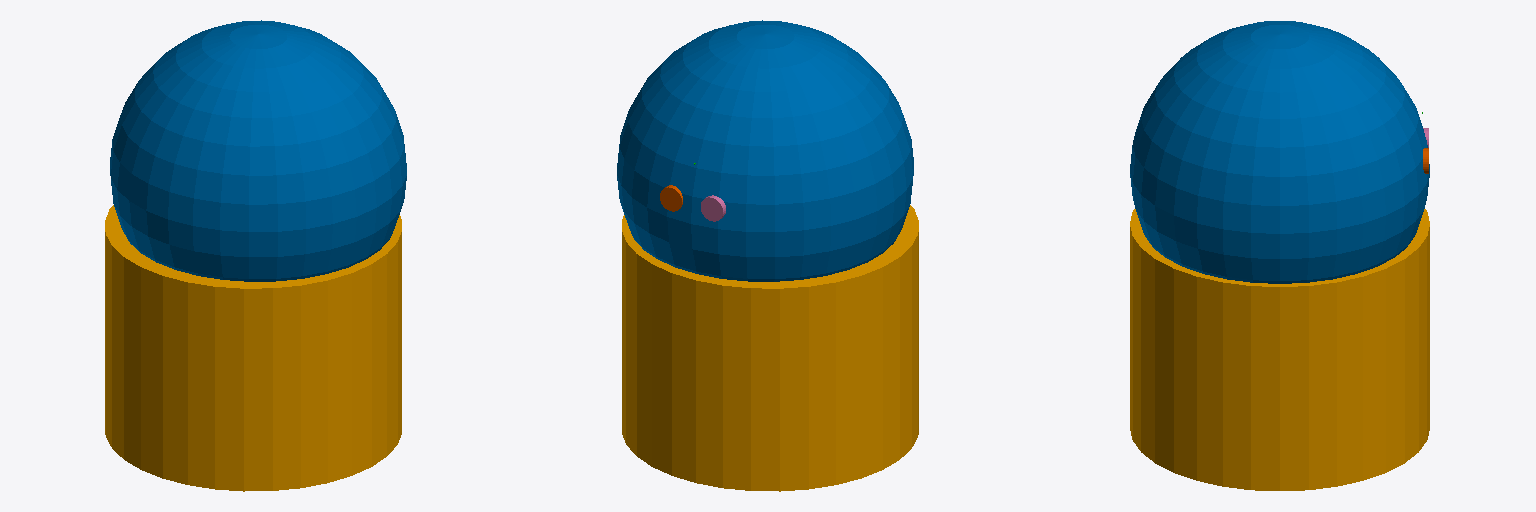
robot.urdf — mira:
<robot name="mira">

    <material name="blue">
        <color rgba="0 0 0.8 1"/>
    </material>
    <material name="red">
        <color rgba="0.8 0 0 1"/>
    </material>
    <material name="green">
        <color rgba="0 0.8 0 1"/>
    </material>

    <gazebo>
        <plugin name="gazebo_ros_control" filename="libgazebo_ros_control.so">
        </plugin>
    </gazebo>

	<!-- * * * Link Definitions * * * -->
    <link name="base_link">
 	    <inertial>
            <origin xyz="0 0 0" rpy="0 0 0"/>
            <mass value="0.18" />
            <inertia ixx="0.0002835" ixy="0.0" ixz="0.0" iyy="0.0002835" iyz="0.0" izz="0.000324"/>
        </inertial>
        <collision>
            <origin xyz="0 0 0" rpy="0 0 0"/>
            <geometry>
                <cylinder radius="0.06" length="0.09"/>
            </geometry>
        </collision>
        <visual>
            <origin rpy="0.0 0 0" xyz="0 0 0"/>
            <geometry>
                <cylinder radius="0.06" length="0.09"/>
            </geometry>
        </visual>
	</link>

    <gazebo reference="roll_M1_link">
        <kp>1000.0</kp>
        <kd>10.0</kd>
        <mu1>10.0</mu1>
        <mu2>10.0</mu2>
    </gazebo>

    <link name="roll_M1_link">
        <!-- Inertial for gazebo to take it into account, Put 1gr weight -->
        <inertial>
            <origin xyz="0 0 0" rpy="0 0 0"/>
            <mass value="0.001" />
            <inertia ixx="2.70833333333e-08" ixy="0.0" ixz="0.0" iyy="2.70833333333e-08" iyz="0.0" izz="5e-08"/>
        </inertial>
        <visual>
            <origin rpy="0 0 0" xyz="0 0 0"/>
            <geometry>
                <cylinder length="0.005" radius="0.01"/>
            </geometry>
            <material name="red"/>
        </visual>
    </link>
    <!-- This is for color and physical properties in Gazebo, color won't work with the material tag in gazebo
    only for URDF coloring -->
    <gazebo reference="roll_M1_link">
        <kp>1000.0</kp>
        <kd>10.0</kd>
        <mu1>10.0</mu1>
        <mu2>10.0</mu2>
        <material>Gazebo/Red</material>
    </gazebo>

    <joint name="roll_joint" type="revolute">
    	<parent link="base_link"/>
    	<child link="roll_M1_link"/>
        <origin xyz="0.0023 0 -0.0005" rpy="0 0 0"/>
        <limit lower="-0.2" upper="0.2" effort="0.1" velocity="0.005"/>
        <axis xyz="1 0 0"/>
	</joint>

    <transmission name="tran1">
        <type>transmission_interface/SimpleTransmission</type>
        <joint name="roll_joint">
            <hardwareInterface>hardware_interface/EffortJointInterface</hardwareInterface>
        </joint>
        <actuator name="motor1">
            <hardwareInterface>hardware_interface/EffortJointInterface</hardwareInterface>
            <mechanicalReduction>1</mechanicalReduction>
        </actuator>
    </transmission>


    <link name="pitch_M2_link">
        <!-- Inertial for gazebo to take it into account, Put 1gr weight -->
        <inertial>
            <origin xyz="0 0 0" rpy="0 0 0"/>
            <mass value="0.001" />
            <inertia ixx="2.70833333333e-08" ixy="0.0" ixz="0.0" iyy="2.70833333333e-08" iyz="0.0" izz="5e-08"/>
        </inertial>
        <visual>
            <origin rpy="0 0 0" xyz="0 0 0"/>
            <geometry>
                <cylinder length="0.005" radius="0.01"/>
            </geometry>
            <material name="green"/>
        </visual>
    </link>

    <!-- This is for color and physical properties in Gazebo, color won't work with the material tag in gazebo
    only for URDF coloring -->
    <gazebo reference="pitch_M2_link">
        <kp>1000.0</kp>
        <kd>10.0</kd>
        <mu1>10.0</mu1>
        <mu2>10.0</mu2>
        <material>Gazebo/Green</material>
    </gazebo>

    <joint name="pitch_joint" type="revolute">
    	<parent link="roll_M1_link"/>
    	<child link="pitch_M2_link"/>
    	<origin xyz="0 0 0" rpy="0 -1.5708 0"/>
        <limit lower="0" upper="0.44" effort="0.1" velocity="0.005"/>
        <axis xyz="0 1 0"/>
	</joint>

    <transmission name="tran2">
        <type>transmission_interface/SimpleTransmission</type>
        <joint name="pitch_joint">
            <hardwareInterface>hardware_interface/EffortJointInterface</hardwareInterface>
        </joint>
        <actuator name="motor2">
            <hardwareInterface>hardware_interface/EffortJointInterface</hardwareInterface>
            <mechanicalReduction>1</mechanicalReduction>
        </actuator>
    </transmission>

    <link name="yaw_M3_link">
        <!-- Inertial for gazebo to take it into account, Put 1gr weight -->
        <inertial>
            <origin xyz="0 0 0" rpy="0 0 0"/>
            <mass value="0.001" />
            <inertia ixx="2.70833333333e-08" ixy="0.0" ixz="0.0" iyy="2.70833333333e-08" iyz="0.0" izz="5e-08"/>
        </inertial>
        <visual>
            <origin rpy="0 0 0" xyz="0 0 0"/>
            <geometry>
                <cylinder length="0.005" radius="0.01"/>
            </geometry>
            <material name="blue"/>
        </visual>
    </link>

    <!-- This is for color and physical properties in Gazebo, color won't work with the material tag in gazebo
    only for URDF coloring -->
    <gazebo reference="yaw_M3_link">
        <kp>1000.0</kp>
        <kd>10.0</kd>
        <mu1>10.0</mu1>
        <mu2>10.0</mu2>
        <material>Gazebo/Blue</material>
    </gazebo>


    <joint name="yaw_joint" type="continuous">
    	<parent link="pitch_M2_link"/>
    	<child link="yaw_M3_link"/>
        <origin xyz="0.01 0 0" rpy="0 1.5708 0"/>
        <limit effort="0.1" velocity="0.01"/>
        <axis xyz="0 0 1"/>
	</joint>

    <transmission name="tran3">
        <type>transmission_interface/SimpleTransmission</type>
        <joint name="yaw_joint">
            <hardwareInterface>hardware_interface/EffortJointInterface</hardwareInterface>
        </joint>
        <actuator name="motor3">
            <hardwareInterface>hardware_interface/EffortJointInterface</hardwareInterface>
            <mechanicalReduction>1</mechanicalReduction>
        </actuator>
    </transmission>

    <link name="head_link">
 	    <inertial>
            <origin xyz="0 0 0" rpy="0 0 0"/>
            <mass value="0.02" />
            <inertia ixx="2.61666666667e-05" ixy="0.0" ixz="0.0" iyy="2.61666666667e-05" iyz="0.0" izz="3.6e-05"/>
        </inertial>
        <collision>
            <origin xyz="0 0 0.015" rpy="0 0 0"/>
            <geometry>
                <!--
                <cylinder radius="0.06" length="0.035"/>
                -->
                <sphere radius="0.06"/>
            </geometry>
        </collision>
		<visual>
            <origin rpy="0.0 0 0" xyz="0 0 0"/>
            <geometry>
                <sphere radius="0.06"/>
            </geometry>
        </visual>
	</link>


    <joint name="base_head_joint" type="fixed">
    	<parent link="yaw_M3_link"/>
    	<child link="head_link"/>
    	<origin xyz="0 0 0.06" rpy="0 0 0"/>
	</joint>

    <link name="left_eye_link">
        <!-- Inertial for gazebo to take it into account, Put 1gr weight -->
        <inertial>
            <origin xyz="0 0 0" rpy="0 0 0"/>
            <mass value="0.001" />
            <inertia ixx="9.1875e-09" ixy="0.0" ixz="0.0" iyy="9.1875e-09" iyz="0.0" izz="1.378125e-08"/>
        </inertial>
		<visual>
            <origin rpy="0.0 0 0" xyz="0 0 0"/>
            <geometry>
                <!--
                <cylinder radius="0.00525" length="0.00525"/>
                -->
                <cylinder radius="0.00525" length="0.00525"/>
            </geometry>
        </visual>
	</link>

    <link name="right_eye_link">
        <!-- Inertial for gazebo to take it into account, Put 1gr weight -->
        <inertial>
            <origin xyz="0 0 0" rpy="0 0 0"/>
            <mass value="0.001" />
            <inertia ixx="9.1875e-09" ixy="0.0" ixz="0.0" iyy="9.1875e-09" iyz="0.0" izz="1.378125e-08"/>
        </inertial>
		<visual>
            <origin rpy="0.0 0 0" xyz="0 0 0"/>
            <geometry>
                <!--
                <cylinder radius="0.00525" length="0.00525"/>
                -->
                <cylinder radius="0.00525" length="0.00525"/>
            </geometry>
        </visual>
	</link>

    <joint name="head_lefteye_joint" type="fixed">
        <parent link="head_link"/>
        <child link="left_eye_link"/>
        <origin xyz="0.0095 0.057 0.0085" rpy="-1.5708 0 0"/>
    </joint>

    <joint name="head_righteye_joint" type="fixed">
        <parent link="head_link"/>
        <child link="right_eye_link"/>
        <origin xyz="-0.0095 0.057 0.0085" rpy="-1.5708 0 0"/>
    </joint>

    <link name="camera_link">
        <!-- Inertial for gazebo to take it into account, Put 1gr weight -->
        <inertial>
            <origin xyz="0 0 0" rpy="0 0 0"/>
            <mass value="0.001" />
            <inertia ixx="9.1875e-09" ixy="0.0" ixz="0.0" iyy="9.1875e-09" iyz="0.0" izz="1.378125e-08"/>
        </inertial>
		<visual>
            <origin rpy="0.0 0 0" xyz="0 0 0"/>
            <geometry>
                <box size="0.0005 0.0005 0.0005"/>
            </geometry>
            <material name="green"/>
        </visual>
	</link>

    <gazebo reference="camera_link">
        <material>Gazebo/Green</material>
    </gazebo>

    <joint name="head_camera_joint" type="fixed">
        <parent link="head_link"/>
        <child link="camera_link"/>
        <origin xyz="0 0.057 0.0255" rpy="0 0 0"/>
    </joint>


    <!-- camera -->
  <gazebo reference="camera_link">
    <sensor type="camera" name="camera1">
      <update_rate>10.0</update_rate>
      <camera name="head">

          <pose>0 0 0 0 0 1.57</pose>

        <horizontal_fov>1.3962634</horizontal_fov>
        <image>
          <width>400</width>
          <height>400</height>
          <format>R8G8B8</format>
        </image>
        <clip>
          <near>0.01</near>
          <far>100</far>
        </clip>
        <noise>
          <type>gaussian</type>
          <stddev>0.007</stddev>
        </noise>
      </camera>
      <plugin name="camera_controller" filename="libgazebo_ros_camera.so">
        <alwaysOn>true</alwaysOn>
        <updateRate>0.0</updateRate>
        <cameraName>mira/camera1</cameraName>
        <imageTopicName>image_raw</imageTopicName>
        <cameraInfoTopicName>camera_info</cameraInfoTopicName>
        <frameName>camera_link</frameName>
        <hackBaseline>0.07</hackBaseline>
        <distortionK1>0.0</distortionK1>
        <distortionK2>0.0</distortionK2>
        <distortionK3>0.0</distortionK3>
        <distortionT1>0.0</distortionT1>
        <distortionT2>0.0</distortionT2>
      </plugin>
    </sensor>
  </gazebo>

</robot>

--- What the picture shows (computed from the rendered views, not written in the file) ---
3 views of the same robot in one strip: view 1: azimuth 30°, elevation 25°; view 2: azimuth 150°, elevation 25°; view 3: azimuth 270°, elevation 25° (orthographic).
Model mira with 8 links and 7 joints (2 revolute, 1 continuous, 4 fixed), rooted at base_link, posed every joint at zero.
Visible links, largest first — view 1: base_link, head_link; view 2: base_link, head_link; view 3: head_link, base_link.
Link boxes in pixels (x1=…): base_link: x1=105, y1=205, x2=401, y2=491; head_link: x1=110, y1=20, x2=406, y2=281; base_link: x1=622, y1=205, x2=918, y2=491; head_link: x1=617, y1=20, x2=913, y2=281; head_link: x1=1130, y1=21, x2=1429, y2=283; base_link: x1=1130, y1=209, x2=1429, y2=490.
Size in the robot's own frame: 0.1223 by 0.12 by 0.1745 metres.
Geometry: primitives only (box / cylinder / sphere), no mesh files.
